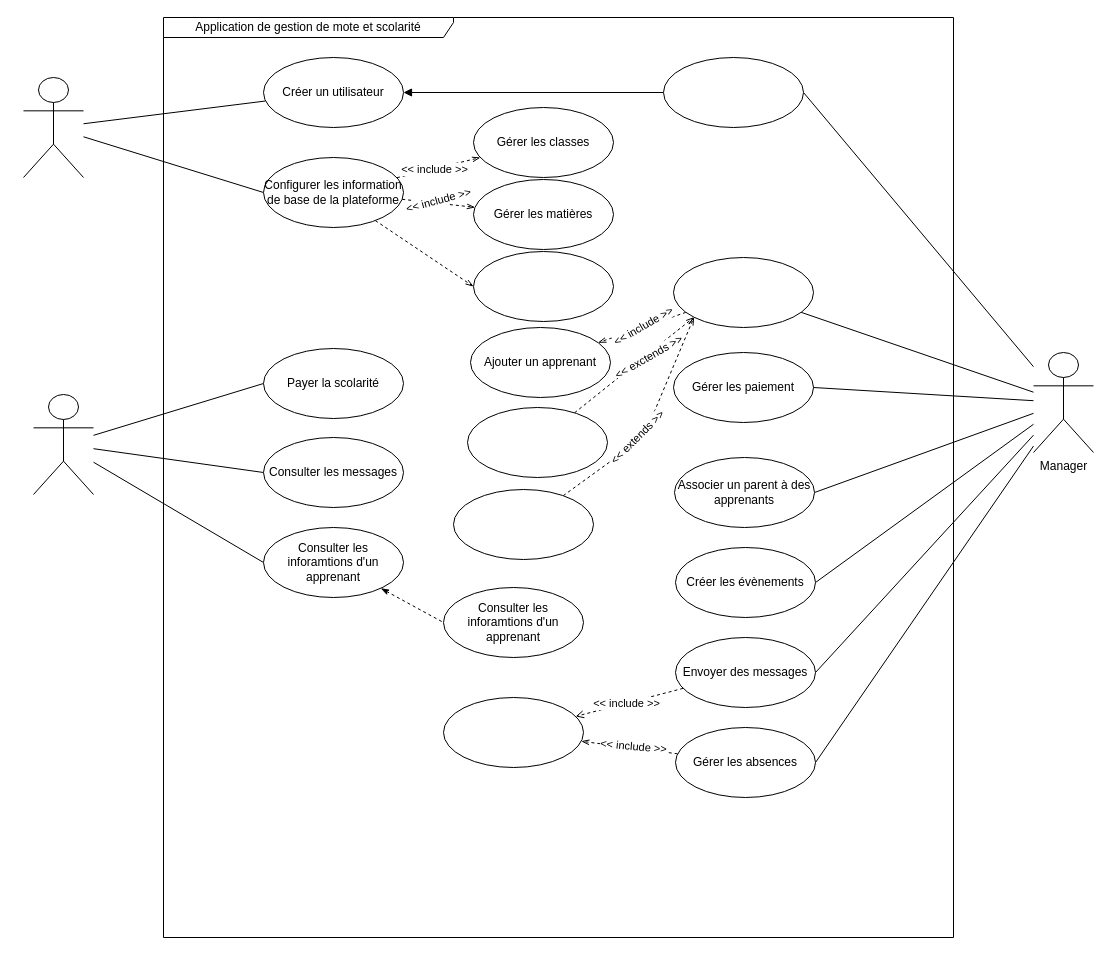
Some shapes in this 1111 by 955 pixel diagram are drawn without their labels. Each missing label, with the centre of its shape:
Administateur: (53,127)
Créer un compte parent: (733,92)
Editer un apprenant: (537,442)
Gérer les apprenants: (743,292)
Gérer les types d'évènement: (543,286)
Notifier les parents: (513,732)
Parent: (63,444)
Supprimer un apprenant: (523,524)
